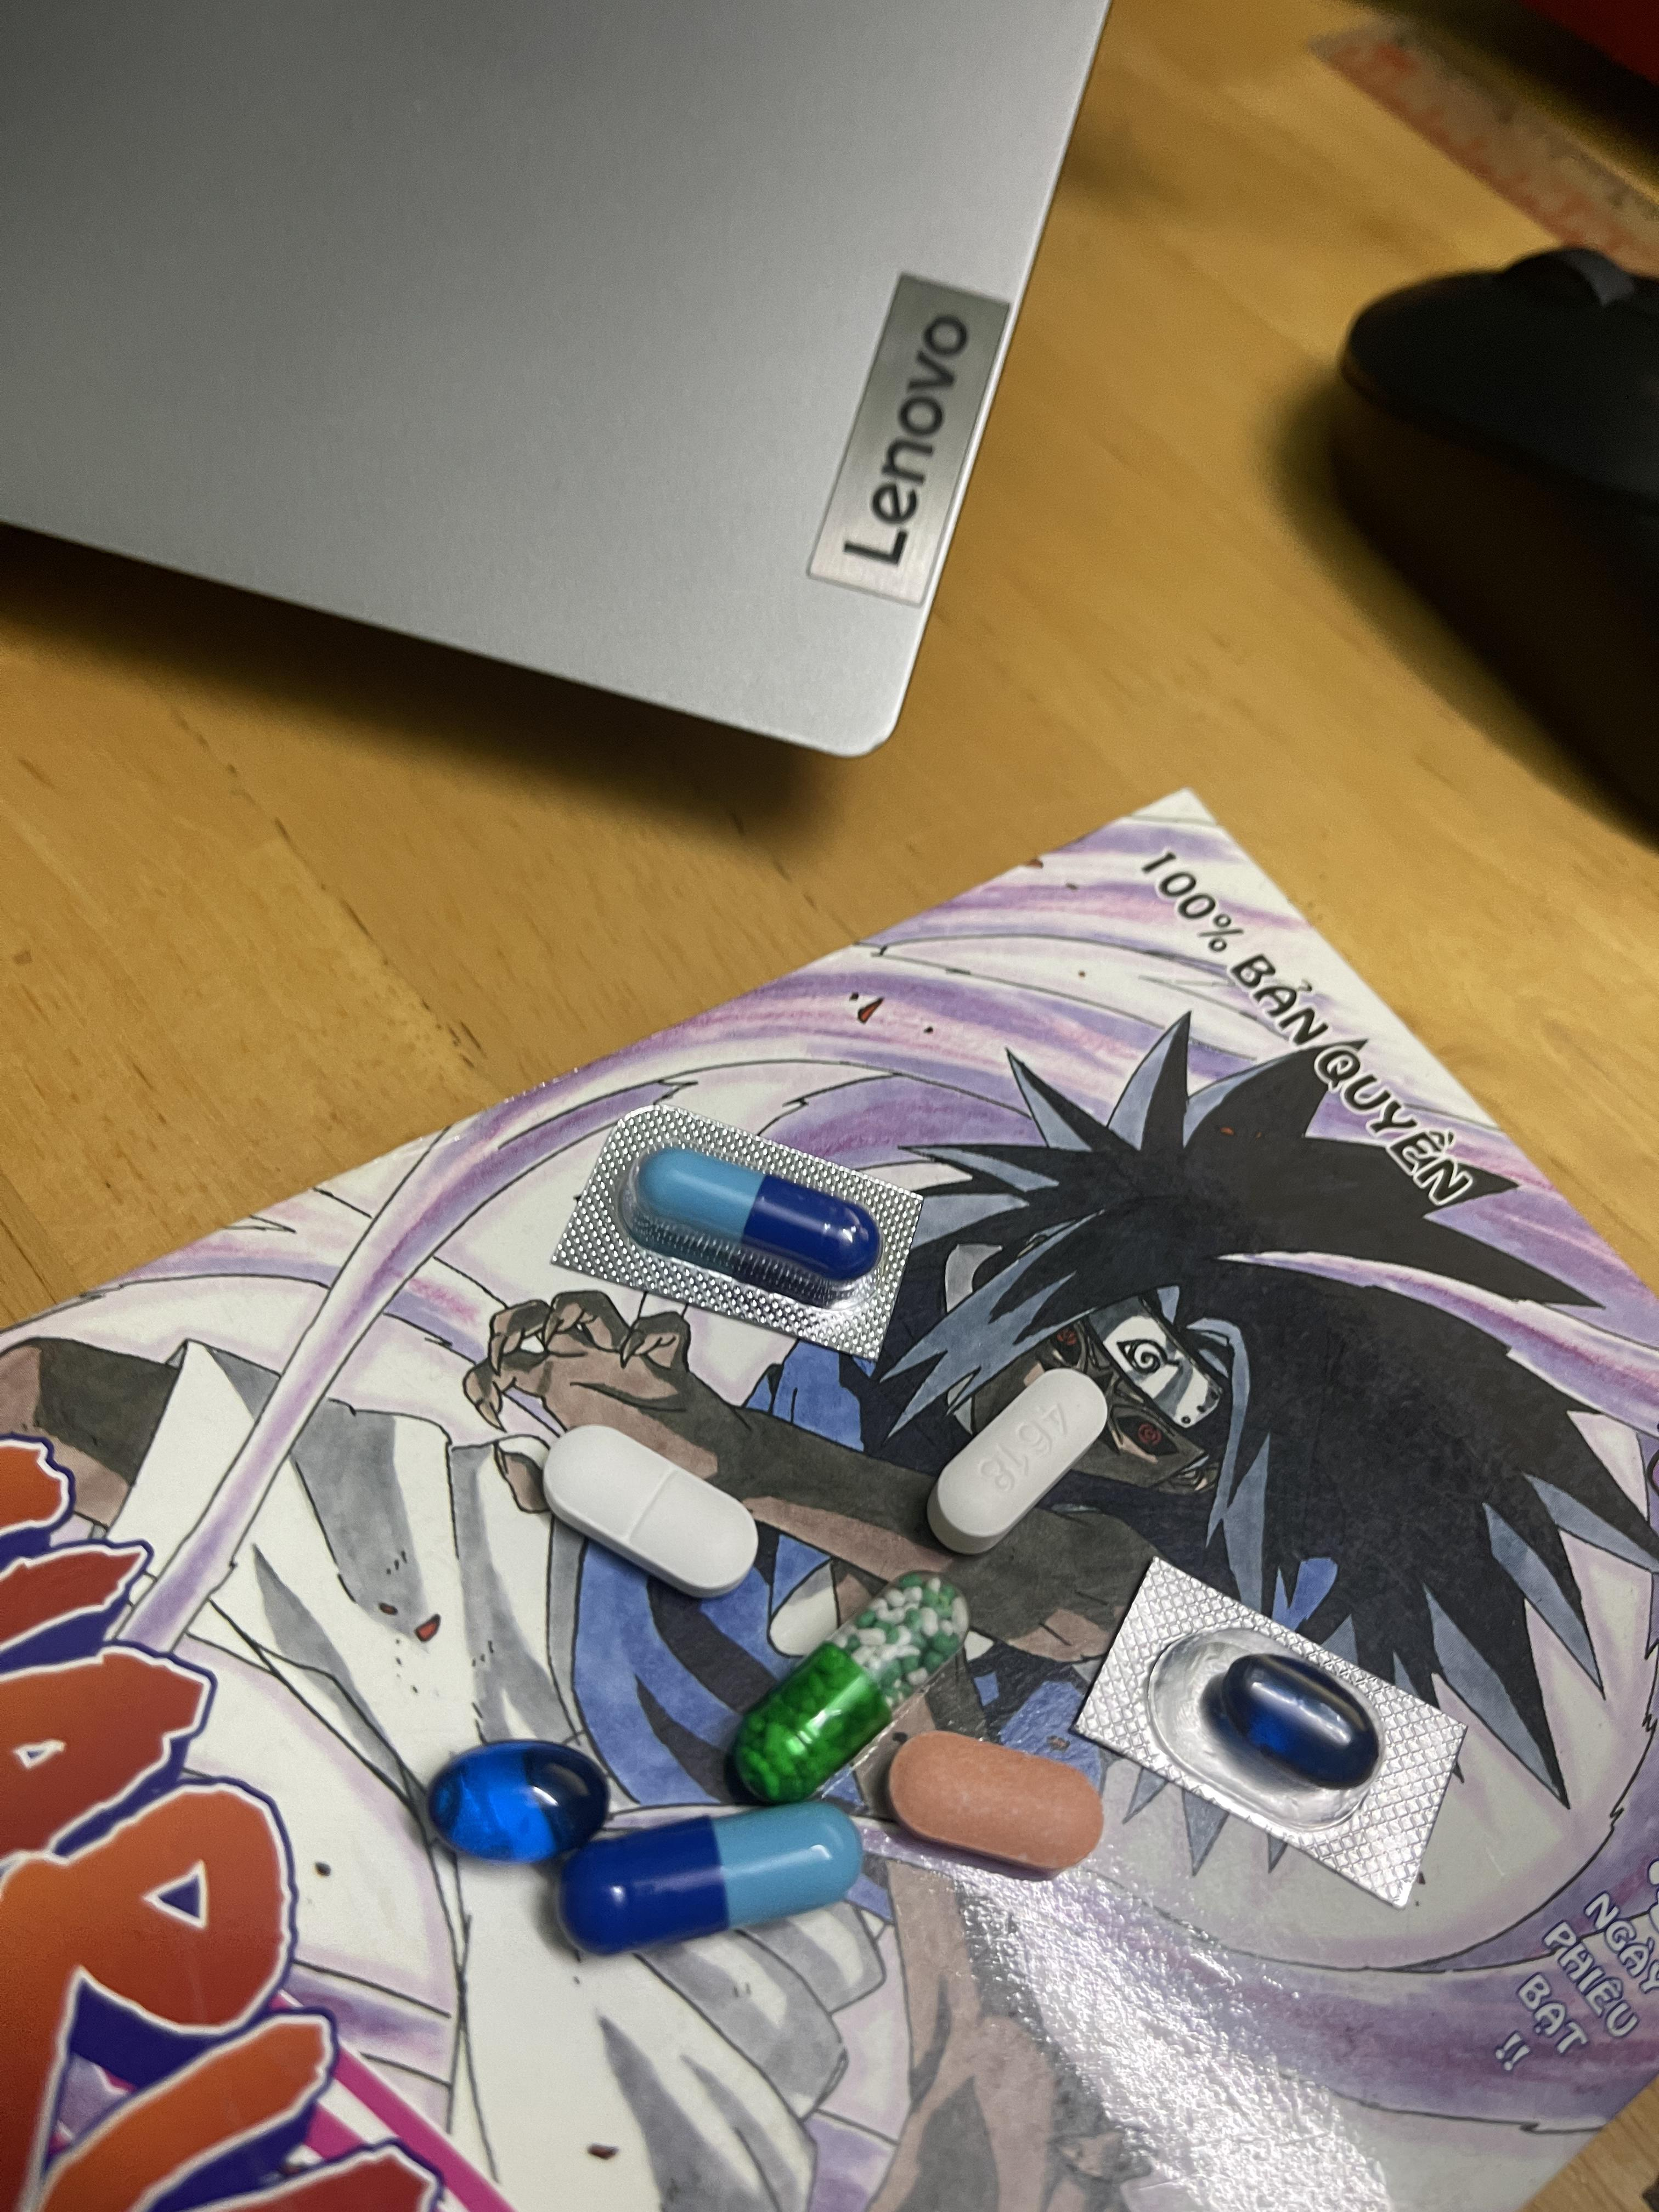Lincomyxin_500mg: (1211, 1651, 1382, 1794), (439, 1747, 582, 1869)
Loratadine_10mg: (887, 1730, 1103, 1872)
Paracetamol_350mg: (538, 1420, 758, 1601)
Paracetamol_500mg: (931, 1367, 1105, 1554)
Paracetamol_650mg: (735, 1580, 962, 1803)
pill: (591, 1810, 859, 1935), (640, 1151, 870, 1285)
